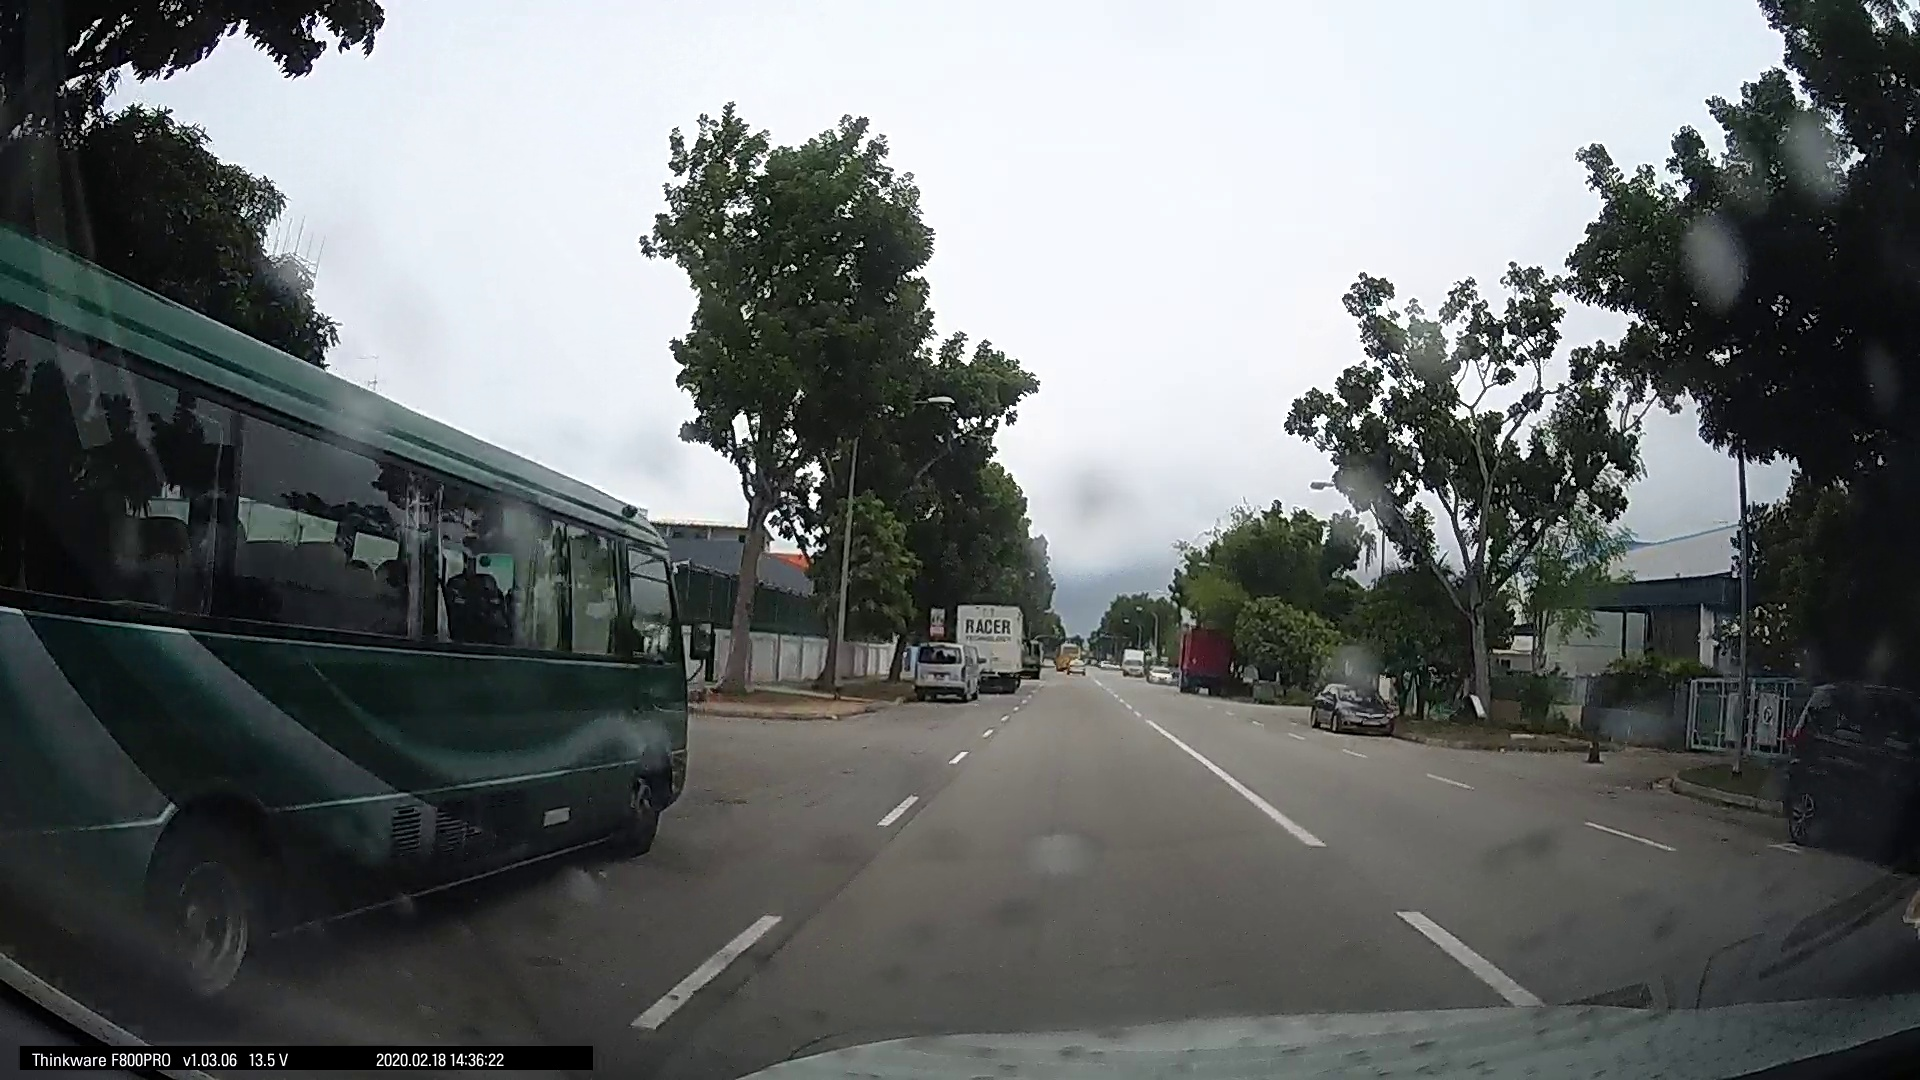Heavy Vehicle: (1259, 539, 1622, 851)
Light Vehicle: (1617, 654, 1807, 771), (233, 592, 419, 692), (1816, 684, 1917, 765), (1, 538, 78, 628)
